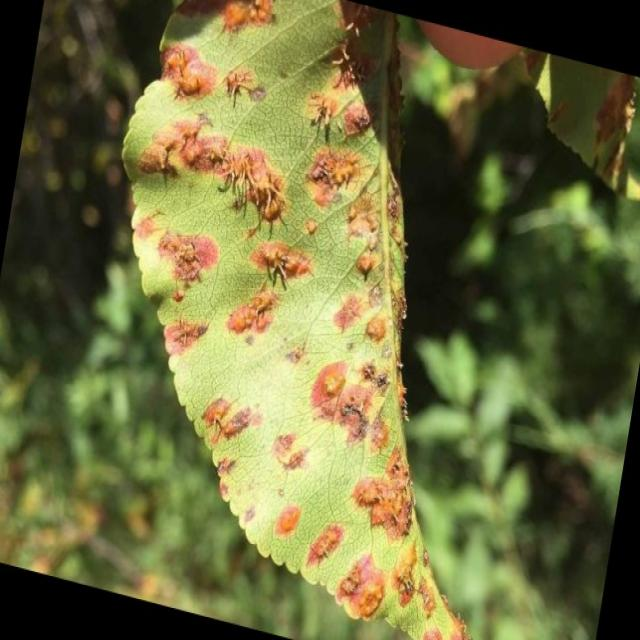Gymnosporangium_Rusts: (121, 0, 478, 639)
